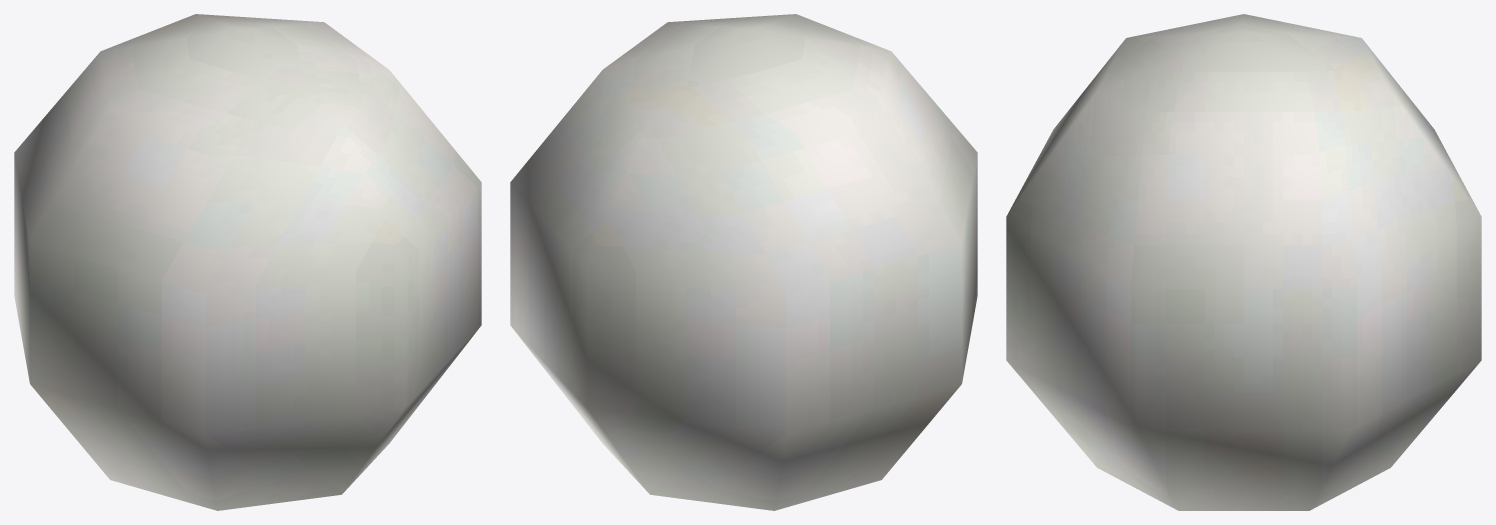
The model's file is dragon_pearl_l1.fbx.
3 views of the same model, side by side, from view 1: azimuth 30°, elevation 25°; view 2: azimuth 150°, elevation 25°; view 3: azimuth 270°, elevation 25° (orthographic).
Parts seen in each view (by area): view 1: mesh_node; view 2: mesh_node; view 3: mesh_node.
Boxes of the visible parts, box(x1,y1,x2,y2) form: mesh_node: box(14, 14, 481, 510); mesh_node: box(510, 14, 977, 510); mesh_node: box(1006, 14, 1481, 510).
Bounding box in the file's own units: 0.2179 × 0.2411 × 0.2235.
Materials: 1 (1 with a texture image).
